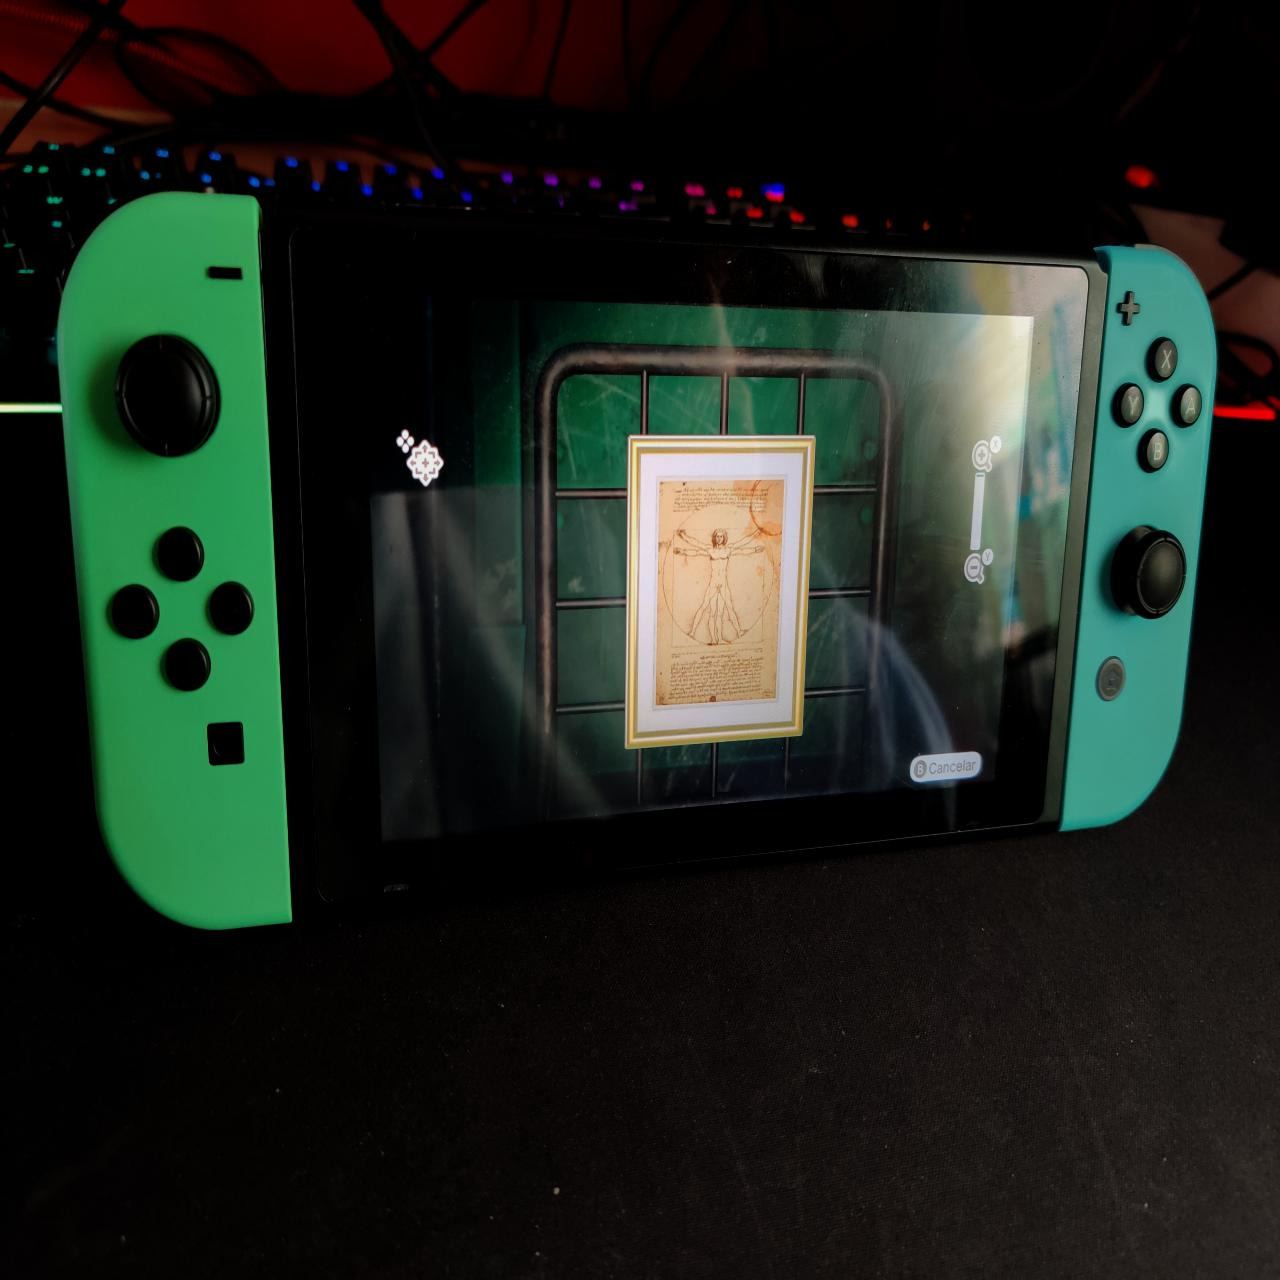VitruvianManFake: (661, 486, 782, 698)
